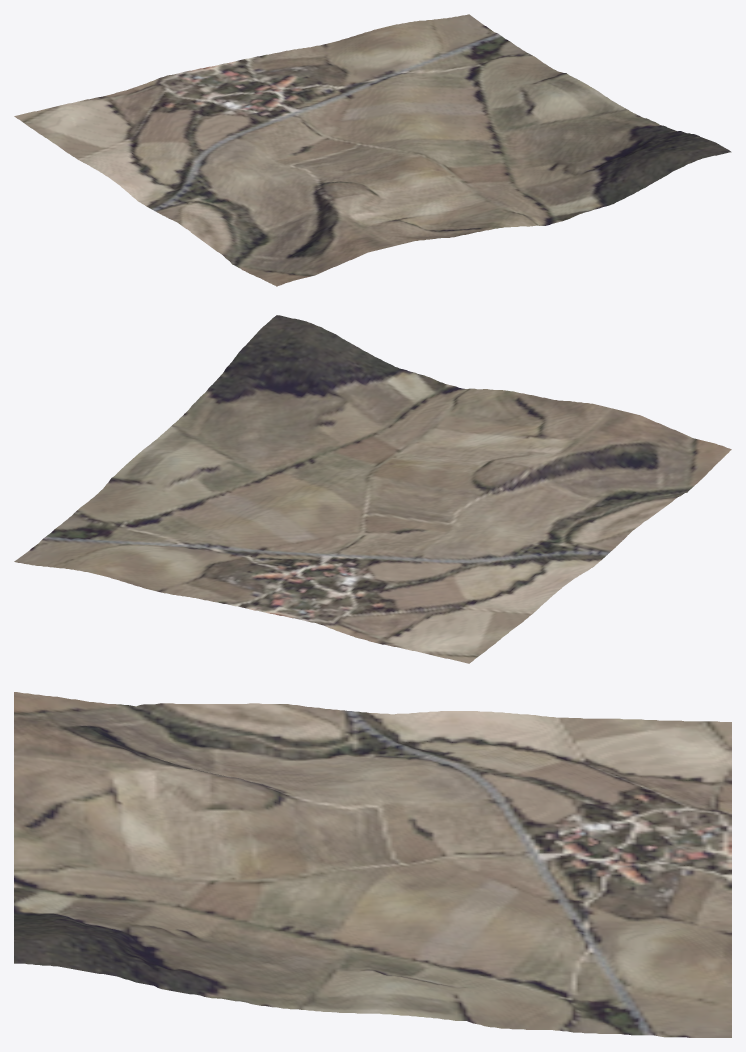
Rendered from tile_5_5.glb.
3 renders of one model, top to bottom at view 1: azimuth 30°, elevation 25°; view 2: azimuth 150°, elevation 25°; view 3: azimuth 270°, elevation 25°, orthographic. The views are drawn at different scales.
Visible parts, largest first — view 1: tile_5_5; view 2: tile_5_5; view 3: tile_5_5.
Part boxes in pixels (x1,y1,x2,y2): tile_5_5: (14, 14, 731, 286); tile_5_5: (14, 315, 731, 663); tile_5_5: (14, 692, 731, 1037).
Bounding box in the file's own units: 1000 × 116 × 1000.
Materials: 1 (1 with a texture image).
